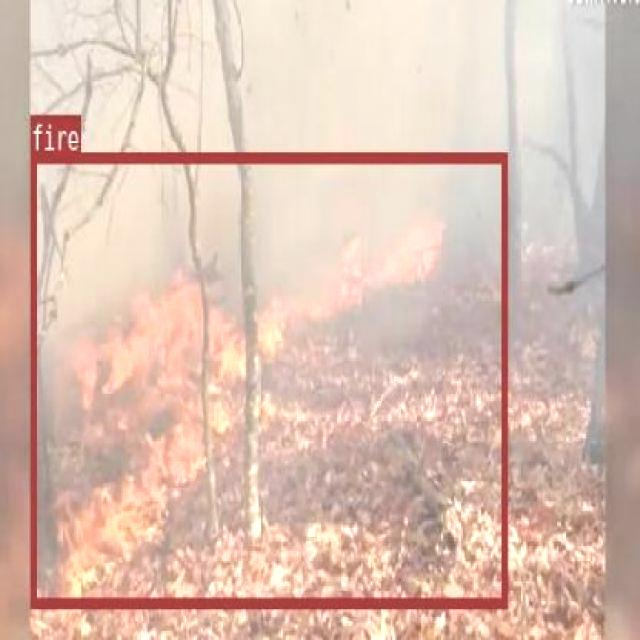fire: (30, 150, 507, 607)
